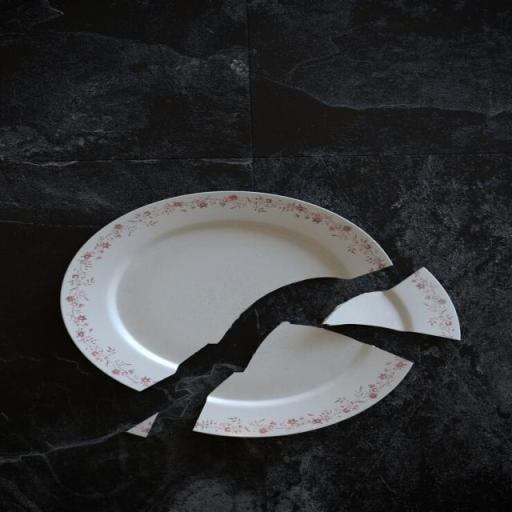glass: (43, 184, 405, 398), (182, 309, 420, 451), (320, 254, 473, 357), (108, 406, 172, 444)
